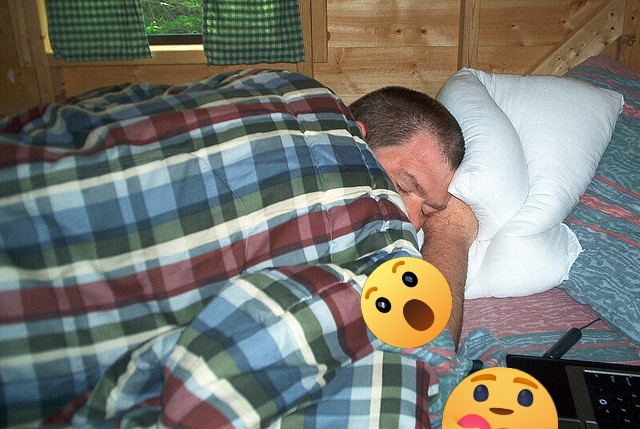care: (442, 367, 558, 429)
wow: (361, 257, 452, 348)
